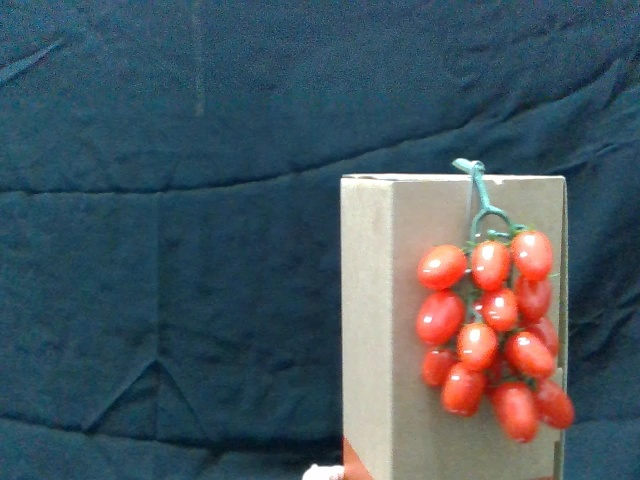tomato: (491, 380, 539, 442), (416, 289, 467, 345), (532, 377, 576, 430), (507, 331, 556, 378), (420, 245, 468, 292), (511, 228, 554, 279), (443, 366, 485, 417), (457, 324, 498, 374), (515, 273, 553, 325), (471, 241, 511, 289), (478, 288, 519, 333), (420, 340, 457, 387)
